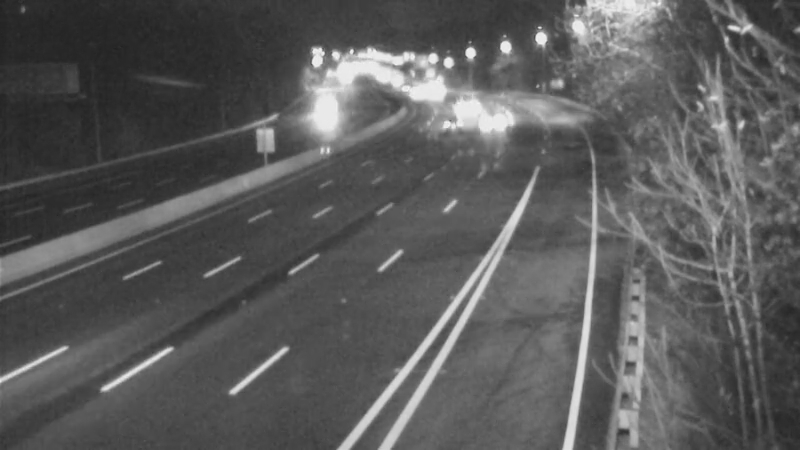vehicle: (439, 74, 489, 124), (427, 95, 477, 145), (470, 92, 520, 142), (300, 79, 350, 129)
